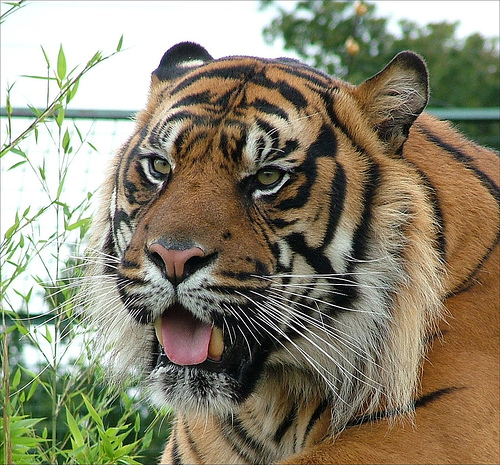Tigre: (84, 44, 475, 414)
